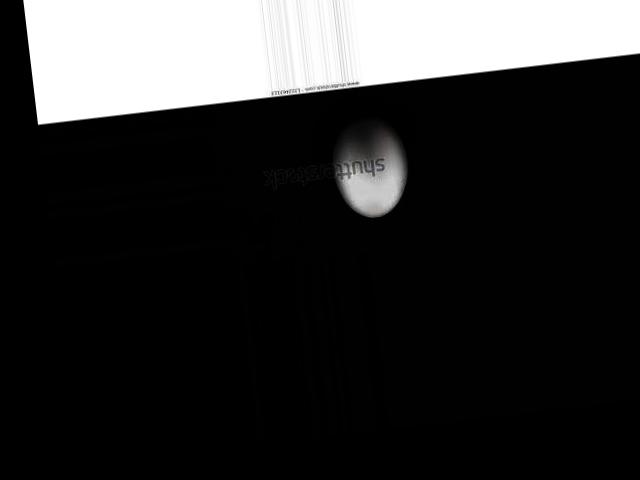egg: (329, 112, 413, 222)
